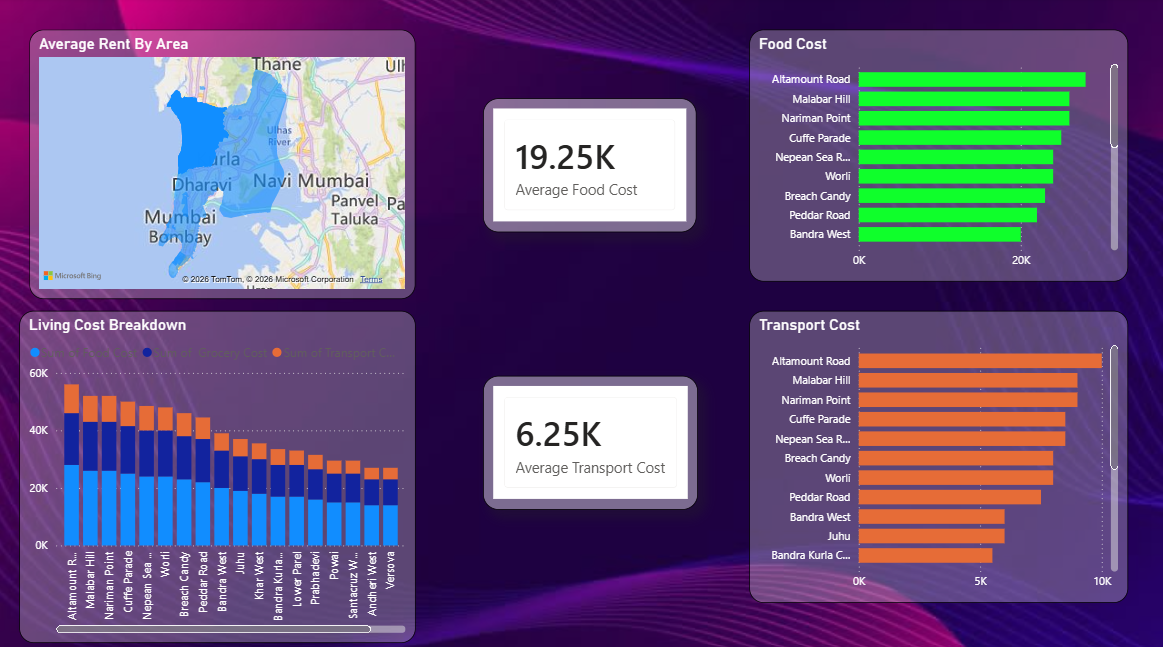

Layout of this report page (visuals, bound fields, positions):
{"tool":"powerbi","page":{"name":"Page 2","canvas":[1280,720],"ordinal":1},"visuals":[{"type":"cardVisual","title":"t","fields":{"Data":["Sheet1.Average Food Cost"]},"box":[532.4,111.1,234.6,146.8],"z":0},{"type":"cardVisual","title":"t","fields":{"Data":["Sheet1.Average Transport Cost"]},"box":[532.4,415.8,236,146.8],"z":1000},{"type":"columnChart","title":"Living Cost Breakdown","fields":{"Category":["Sheet1.Area"],"Y":["Sum(Sheet1.Food Cost)","Sum(Sheet1. Grocery Cost)","Sum(Sheet1.Transport Cost)"]},"box":[23.3,344.4,435,365],"z":2000},{"type":"filledMap","title":"Average Rent By Area","fields":{"Category":["Sheet1.Area"]},"box":[34.3,35.7,424,296.4],"z":3000},{"type":"barChart","title":" Food Cost","fields":{"Category":["Sheet1.Area"],"Y":["Sheet1.Average Food Cost"]},"box":[824.7,35.7,415.8,277.2],"z":4000},{"type":"barChart","title":" Transport Cost","fields":{"Category":["Sheet1.Area"],"Y":["Sheet1.Average Transport Cost"]},"box":[824.7,344.4,415.8,321.1],"z":5000}]}

Visuals, with their boxes in screenshot pixels (x1, y1, x2, y2), scaled from the page's 1280x720 canvas onto the 1163x647 screenshot:
"t" cardVisual: bbox(484, 100, 697, 232)
"t" cardVisual: bbox(484, 374, 698, 506)
"Living Cost Breakdown" columnChart: bbox(21, 309, 416, 637)
"Average Rent By Area" filledMap: bbox(31, 32, 416, 298)
" Food Cost" barChart: bbox(749, 32, 1127, 281)
" Transport Cost" barChart: bbox(749, 309, 1127, 598)
